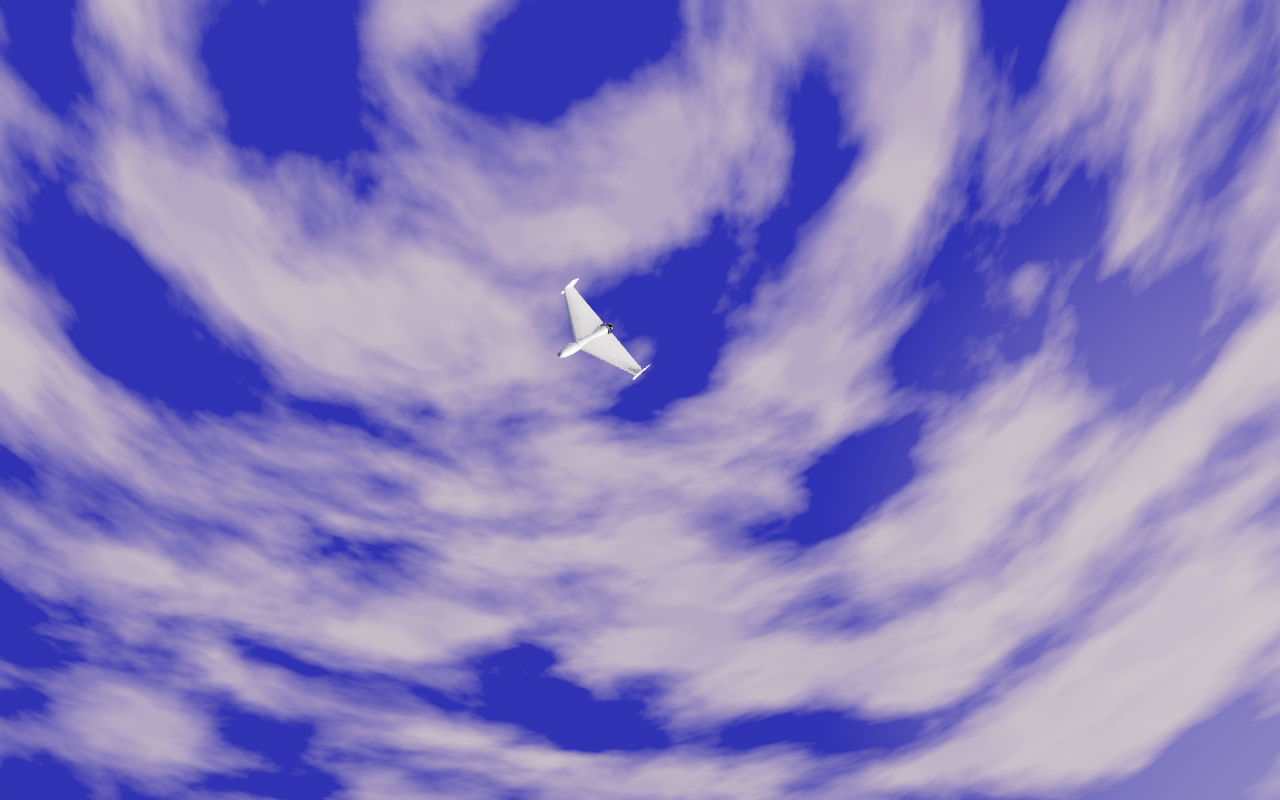shahed: (558, 278, 652, 381)
